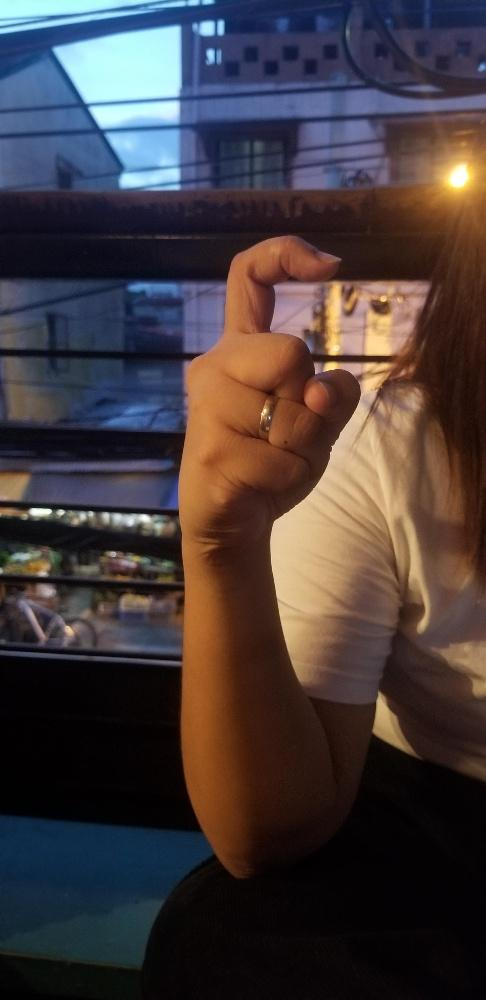x: (173, 228, 364, 535)
